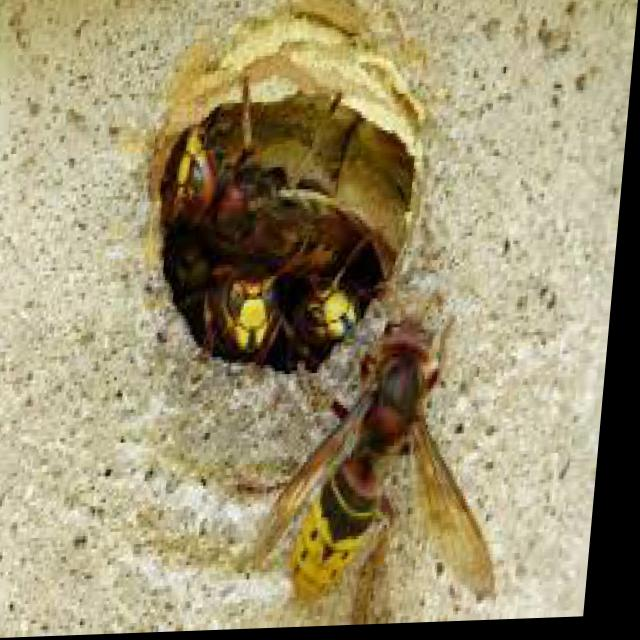Vespa Crabro: (270, 287, 549, 612), (142, 98, 306, 251), (180, 224, 325, 388)
